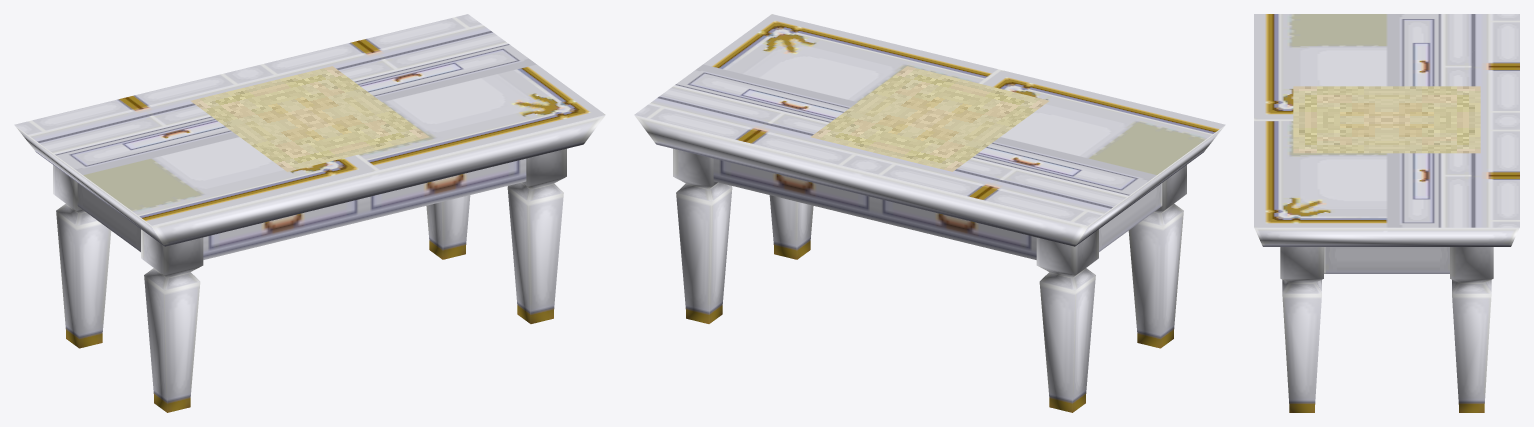
File: rmk_ryl_tableM.dae
3 views of the same model, side by side, from view 1: azimuth 30°, elevation 25°; view 2: azimuth 150°, elevation 25°; view 3: azimuth 270°, elevation 25° (orthographic). The views are drawn at different scales.
Parts seen in each view (by area): view 1: rmk_ryl_tableM; view 2: rmk_ryl_tableM; view 3: rmk_ryl_tableM.
Part boxes in pixels (box(x1,y1,x2,y2)): rmk_ryl_tableM: box(14, 14, 605, 412); rmk_ryl_tableM: box(634, 14, 1225, 412); rmk_ryl_tableM: box(1254, 14, 1519, 412).
Bounding box in the file's own units: 58 × 25.6 × 30.5.
2 materials, 2 textured.
